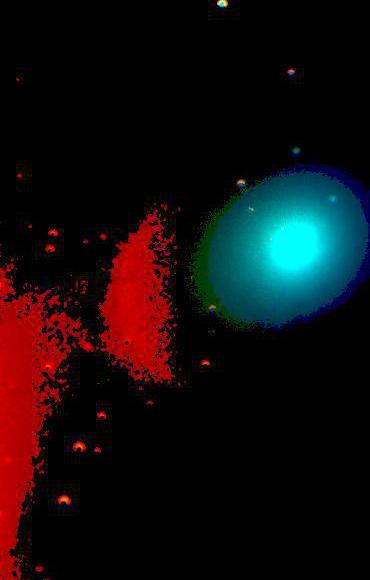star: (218, 264, 248, 294)
